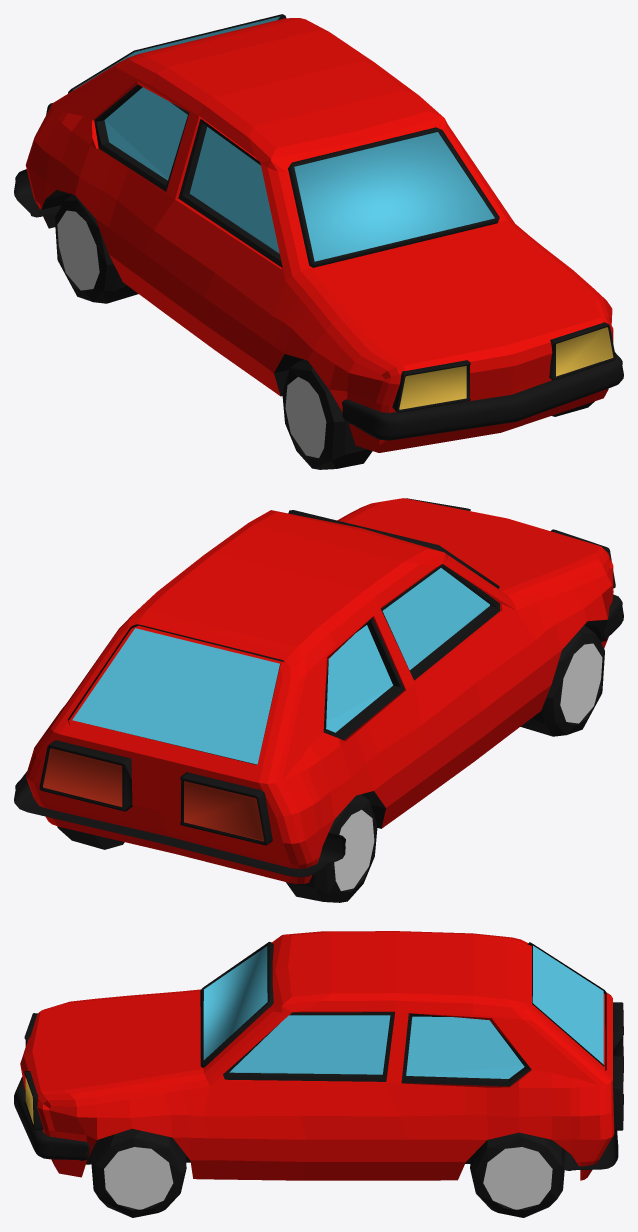
Rendered from Car-C5eYsyIS.glb.
The picture shows the model from 3 angles, top to bottom: view 1: azimuth 30°, elevation 25°; view 2: azimuth 150°, elevation 25°; view 3: azimuth 270°, elevation 25°; orthographic projection. The views are drawn at different scales.
Visible parts, largest first — view 1: Car; view 2: Car; view 3: Car.
Boxes of the visible parts, <box> form: Car: <box>14,14,623,469</box>; Car: <box>14,498,623,902</box>; Car: <box>14,931,623,1217</box>.
Bounding box in the file's own units: 5.11 × 3.8 × 10.29.
